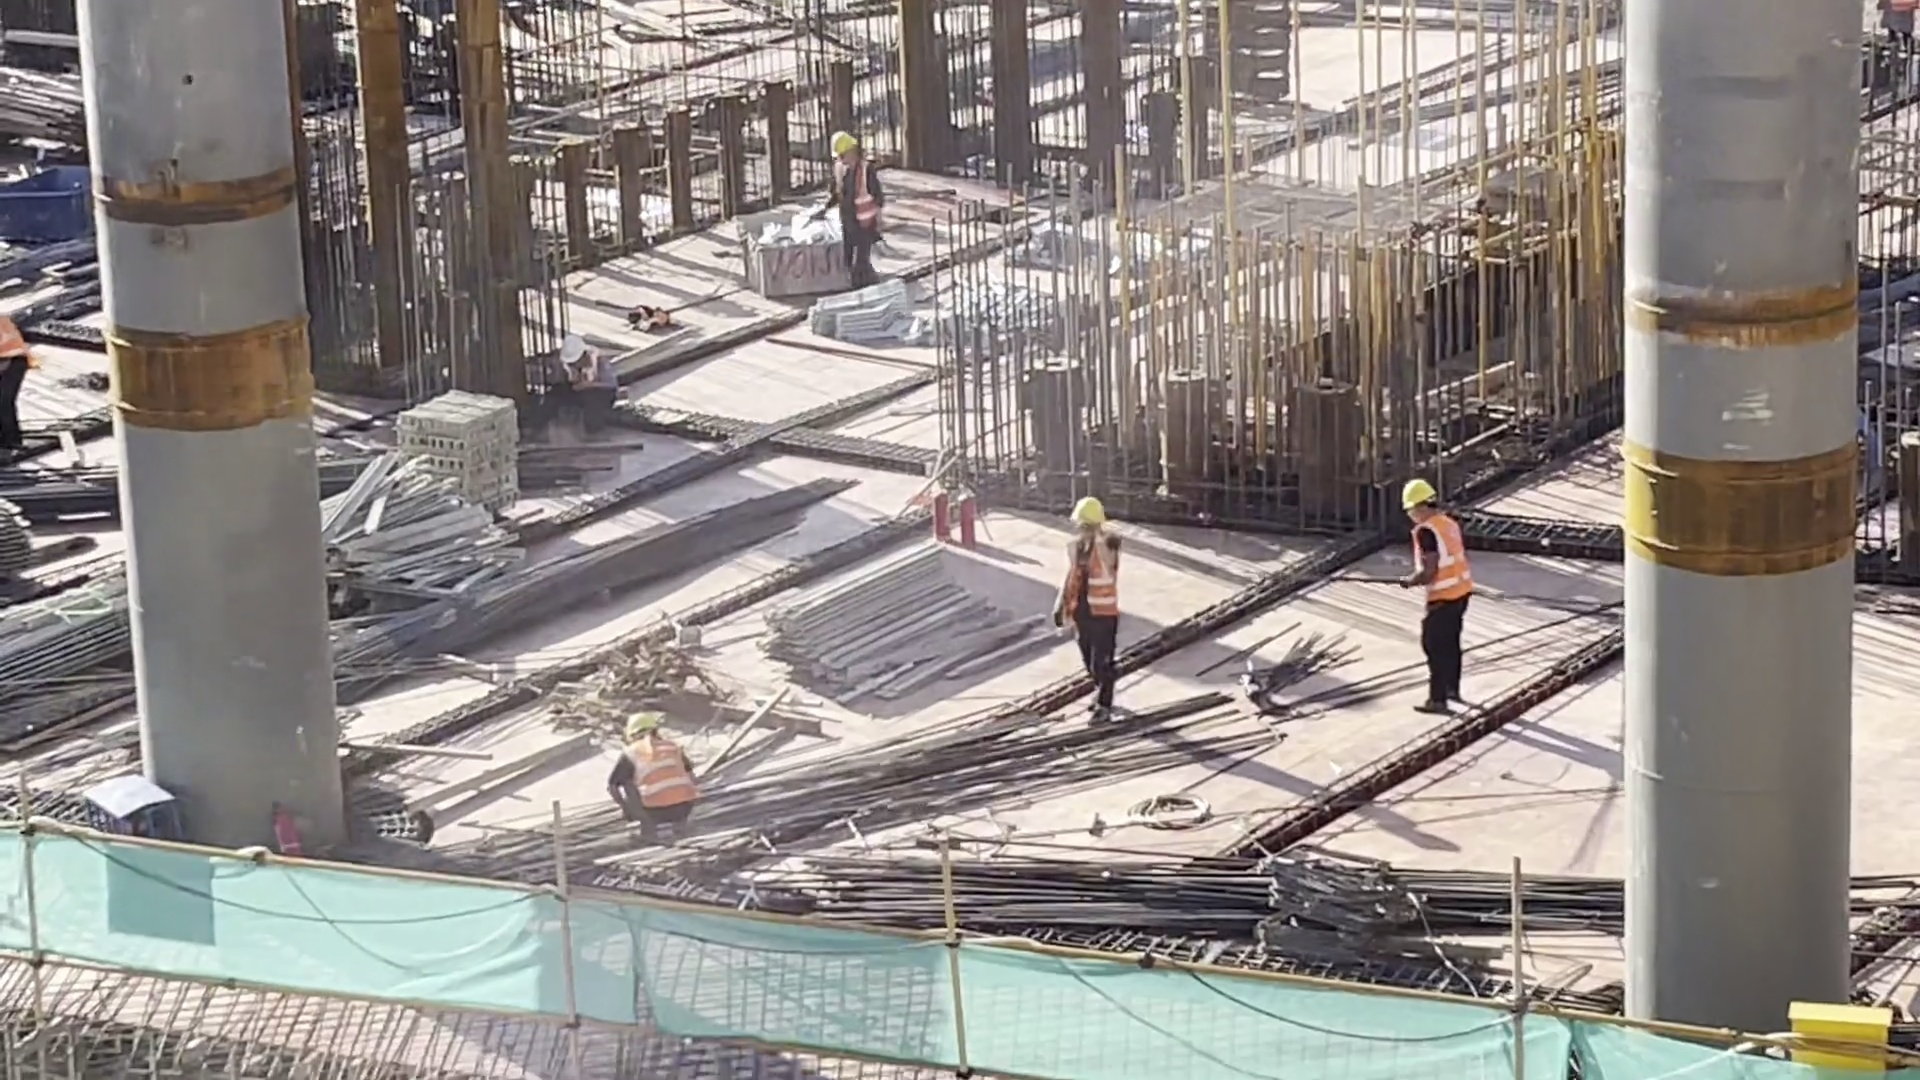ebox: (1780, 983, 1903, 1078)
helmet: (1064, 483, 1104, 533), (551, 338, 593, 372), (623, 701, 667, 733), (1405, 479, 1433, 513), (830, 131, 852, 155)
hopper: (734, 204, 888, 298), (1, 146, 95, 272)
person: (1386, 490, 1482, 679), (591, 711, 719, 838), (1044, 489, 1121, 687), (811, 120, 893, 263), (530, 337, 632, 442)
vest: (1401, 524, 1483, 609), (1064, 530, 1129, 626), (608, 741, 687, 812), (829, 164, 870, 220)
wood: (769, 545, 1025, 722)
